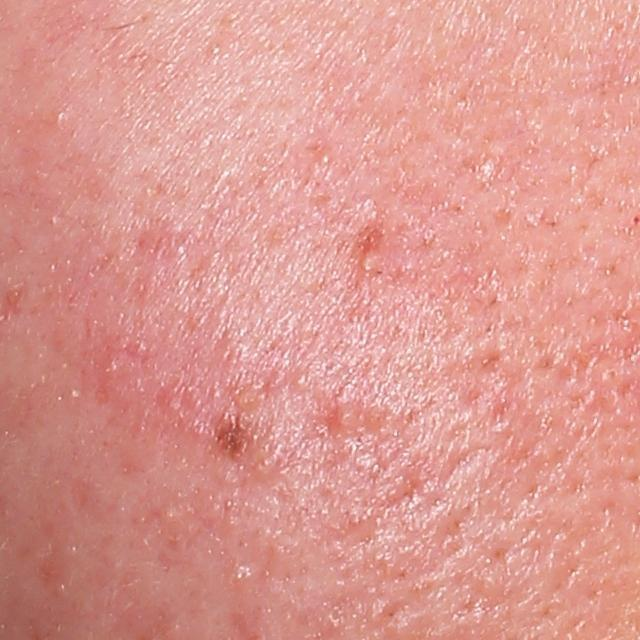comedo: (51, 105, 70, 125)
nevus: (216, 421, 244, 457)
